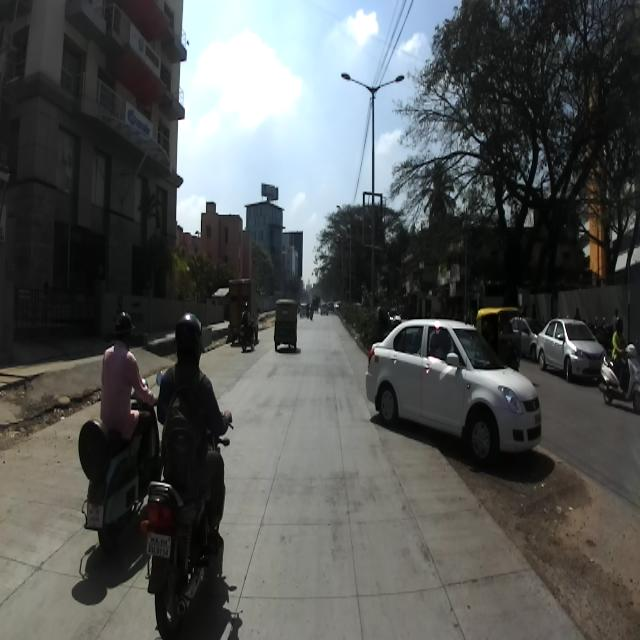car ahead at: (361, 304, 552, 488)
motorcycle ahead at: (140, 484, 234, 628), (80, 419, 157, 574)
